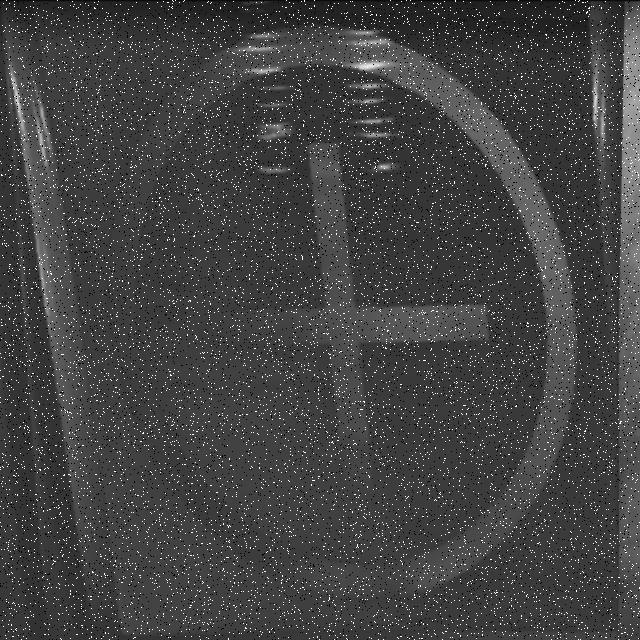circulo-com-sinal-positivo: (1, 2, 618, 640)
